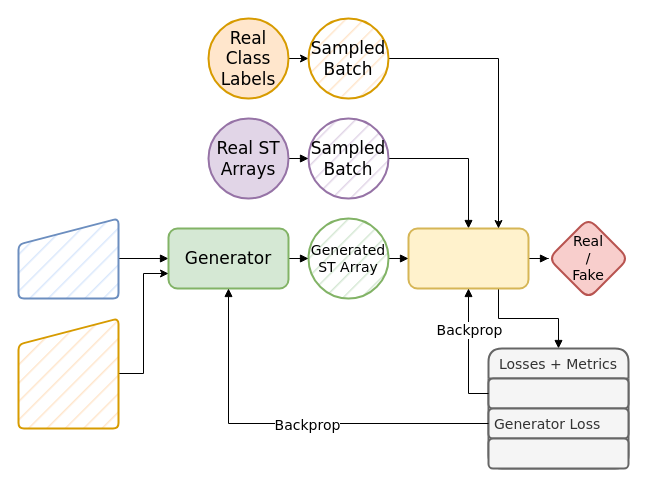
Some shapes in this 646 by 486 pixel diagram are drawn without their labels. Here are the shapes that lost their labels. From the top down, the centre of each, then its label:
At [68,258]: "Random Sample (z)".
At [468,258]: "Discriminator".
At [68,373]: "Random Class Label (y_fake)".
At [558,393]: "Discriminator Loss".
At [558,453]: "MAE, ACC".
